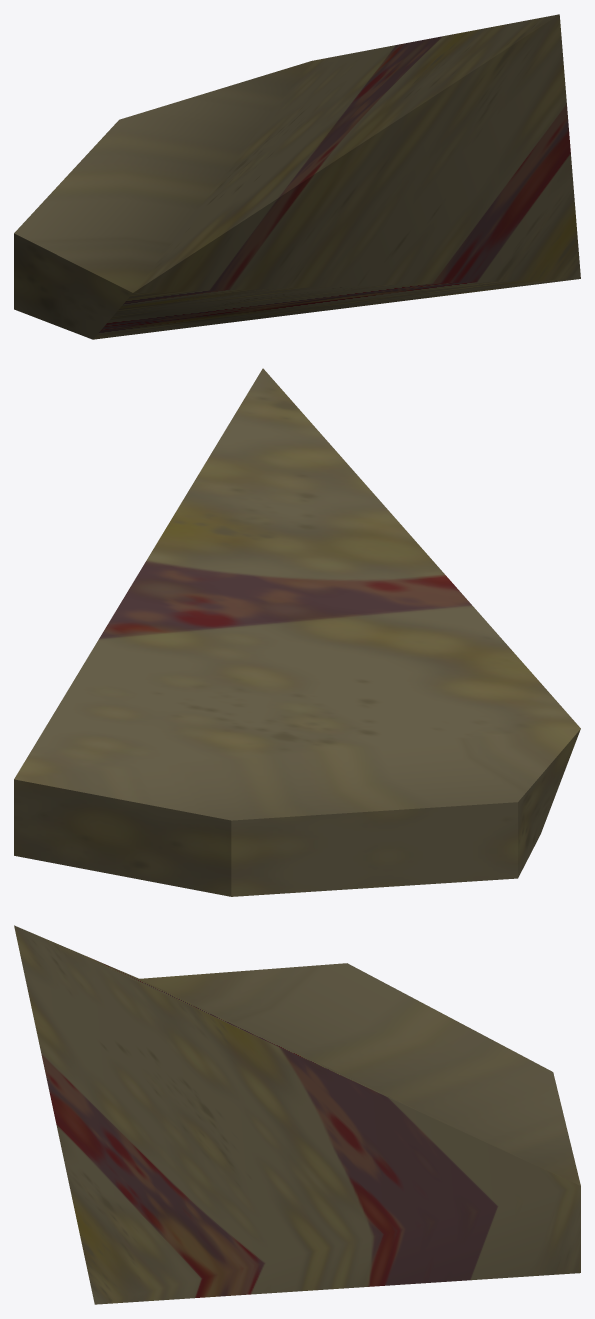
Rendered from ishi_02_7_3.fbx.
The picture shows the model from 3 angles, top to bottom: view 1: azimuth 30°, elevation 25°; view 2: azimuth 150°, elevation 25°; view 3: azimuth 270°, elevation 25°; orthographic projection. The views are drawn at different scales.
Visible parts, largest first — view 1: polySurface27; view 2: polySurface27; view 3: polySurface27.
Part boxes in pixels (bbox=[...]): polySurface27: bbox=[14, 14, 580, 339]; polySurface27: bbox=[14, 368, 580, 896]; polySurface27: bbox=[14, 925, 580, 1304].
Size of the model in its own units: 8.06 by 5.14 by 7.59.
Materials: 1 (1 with a texture image).
